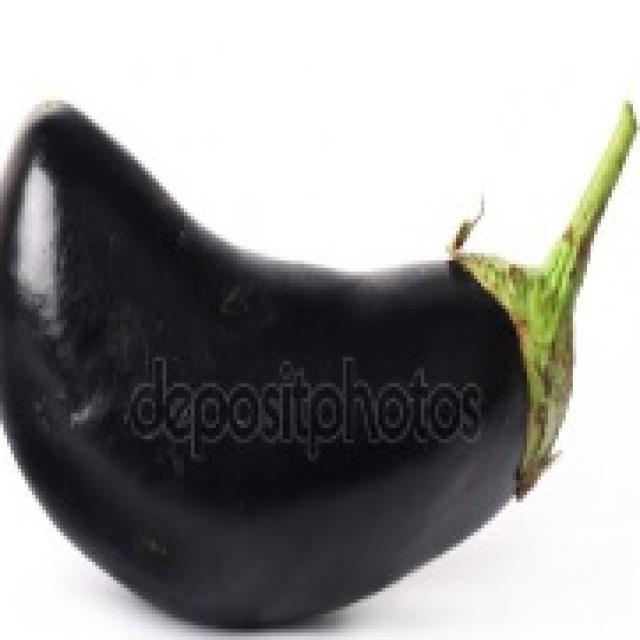eggplant: (0, 85, 576, 628)
